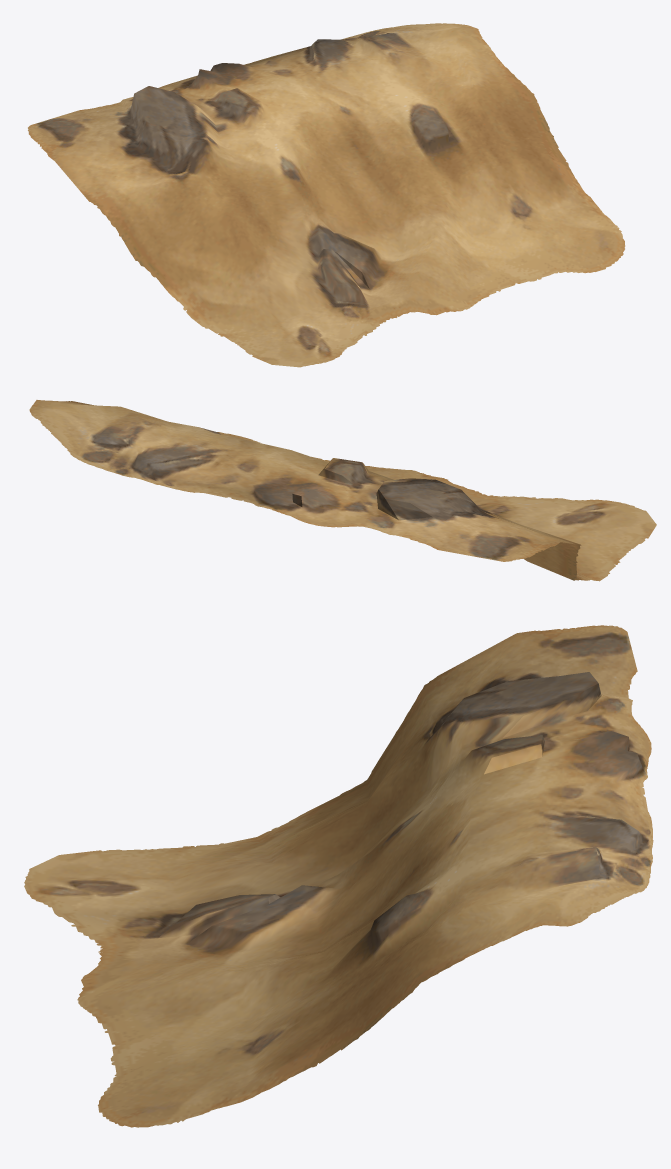
Rendered from sm_shanpo_2.FBX.
3 renders of one model, top to bottom at view 1: azimuth 30°, elevation 25°; view 2: azimuth 150°, elevation 25°; view 3: azimuth 270°, elevation 25°, orthographic. The views are drawn at different scales.
Parts seen in each view (by area): view 1: sm_shanpo_2; view 2: sm_shanpo_2; view 3: sm_shanpo_2.
Part boxes in pixels (x1,y1,x2,y2): sm_shanpo_2: (28,23,625,367); sm_shanpo_2: (29,400,656,581); sm_shanpo_2: (24,625,653,1127).
Bounding box in the file's own units: 216 × 59.66 × 165.
